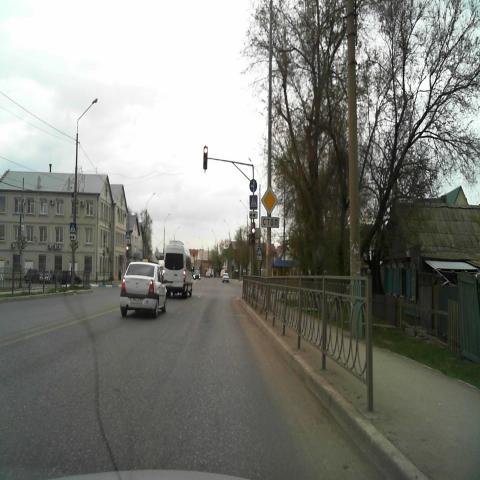4_1_5: (249, 179, 257, 193)
